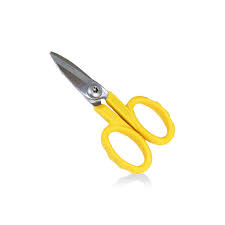tihiras: (44, 44, 179, 182)
